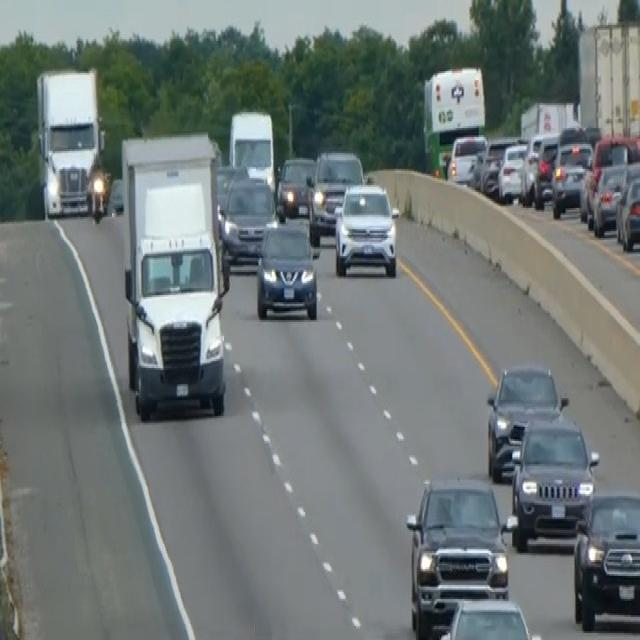car: (404, 473, 514, 638), (509, 412, 599, 550), (485, 359, 566, 482), (571, 487, 639, 631), (333, 180, 399, 278), (255, 219, 318, 320), (579, 132, 639, 230), (306, 147, 364, 245), (220, 174, 277, 265), (432, 594, 544, 638), (550, 137, 593, 217), (519, 130, 559, 206), (591, 160, 628, 235), (275, 153, 316, 219), (478, 135, 516, 196), (446, 130, 487, 185), (496, 138, 528, 202), (214, 160, 249, 217), (615, 172, 639, 250), (107, 174, 124, 215)
lorry: (119, 130, 231, 420), (34, 64, 107, 220)
motorcycle: (88, 171, 107, 224)
